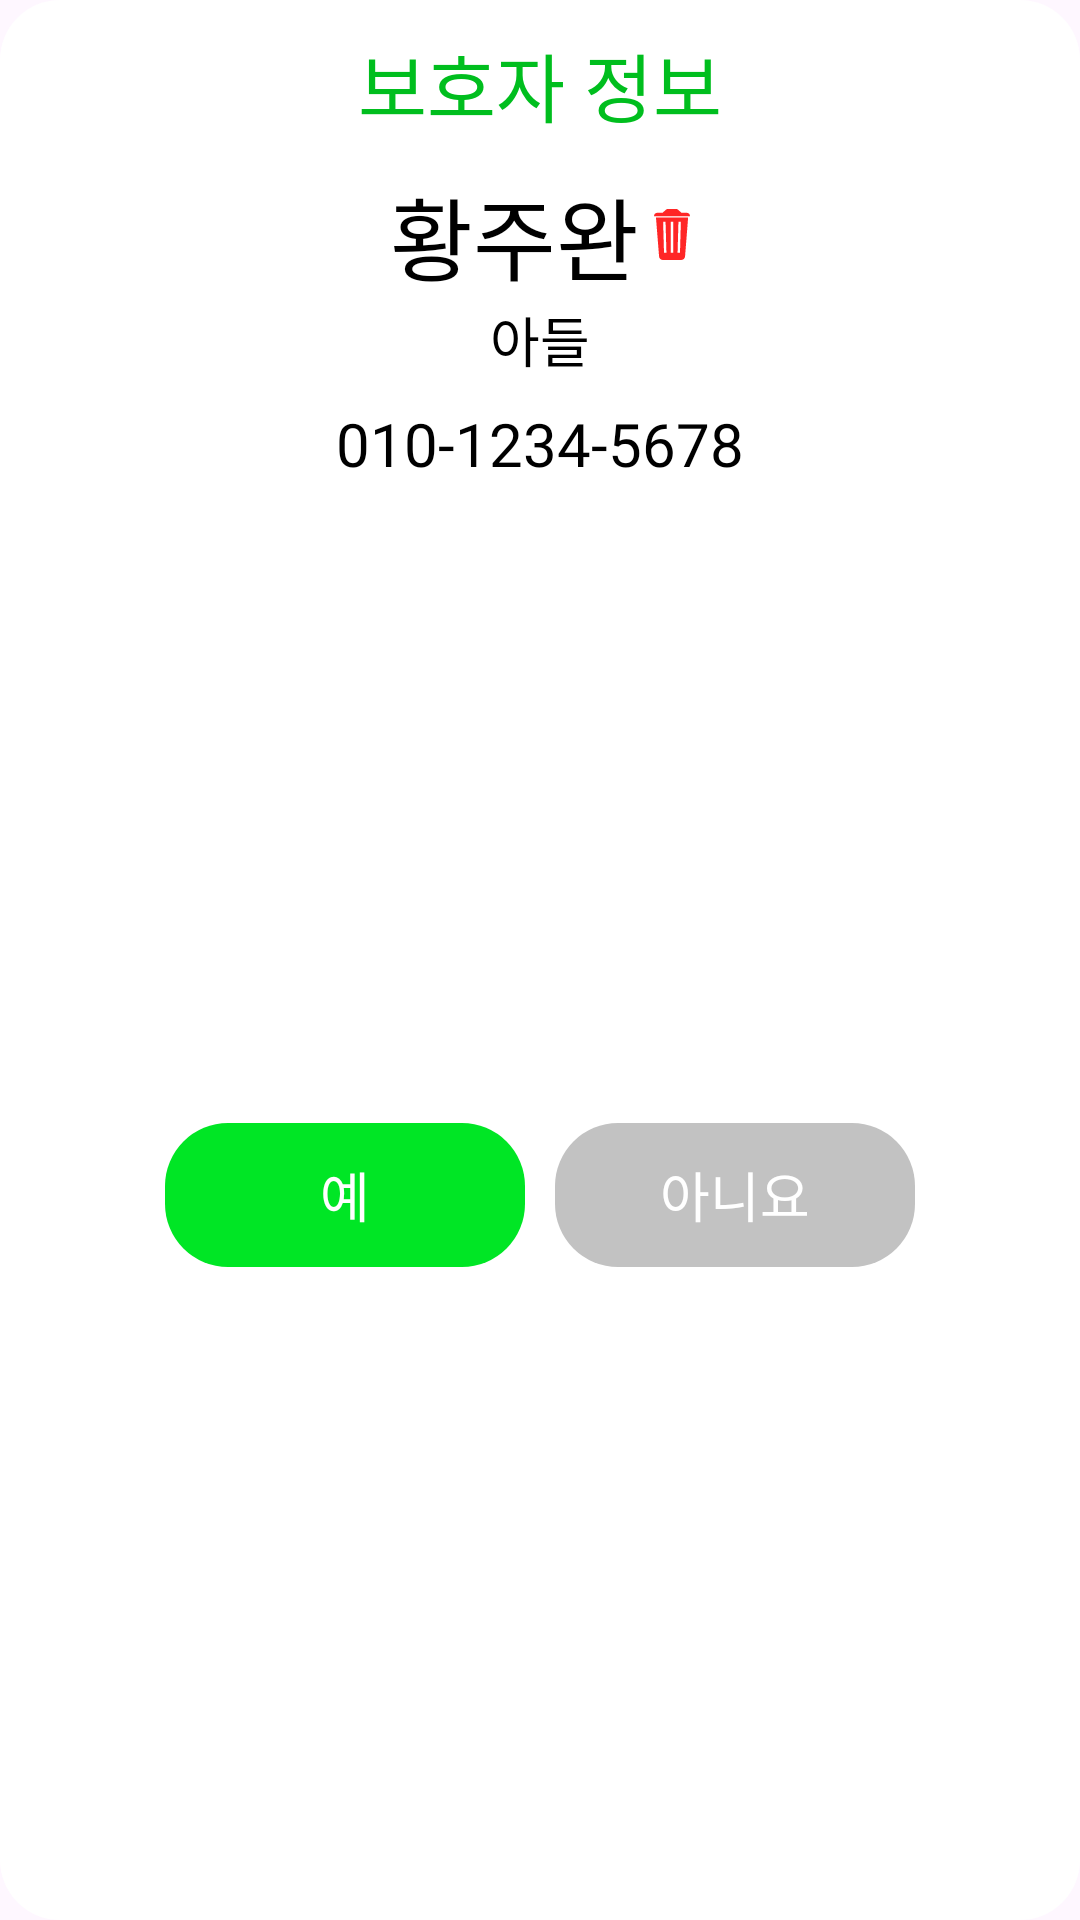

Icons on this 1080 × 1920 Android screen, each with its box as box(x1, y1, x2, y2):
delete: box(654, 209, 690, 260)
